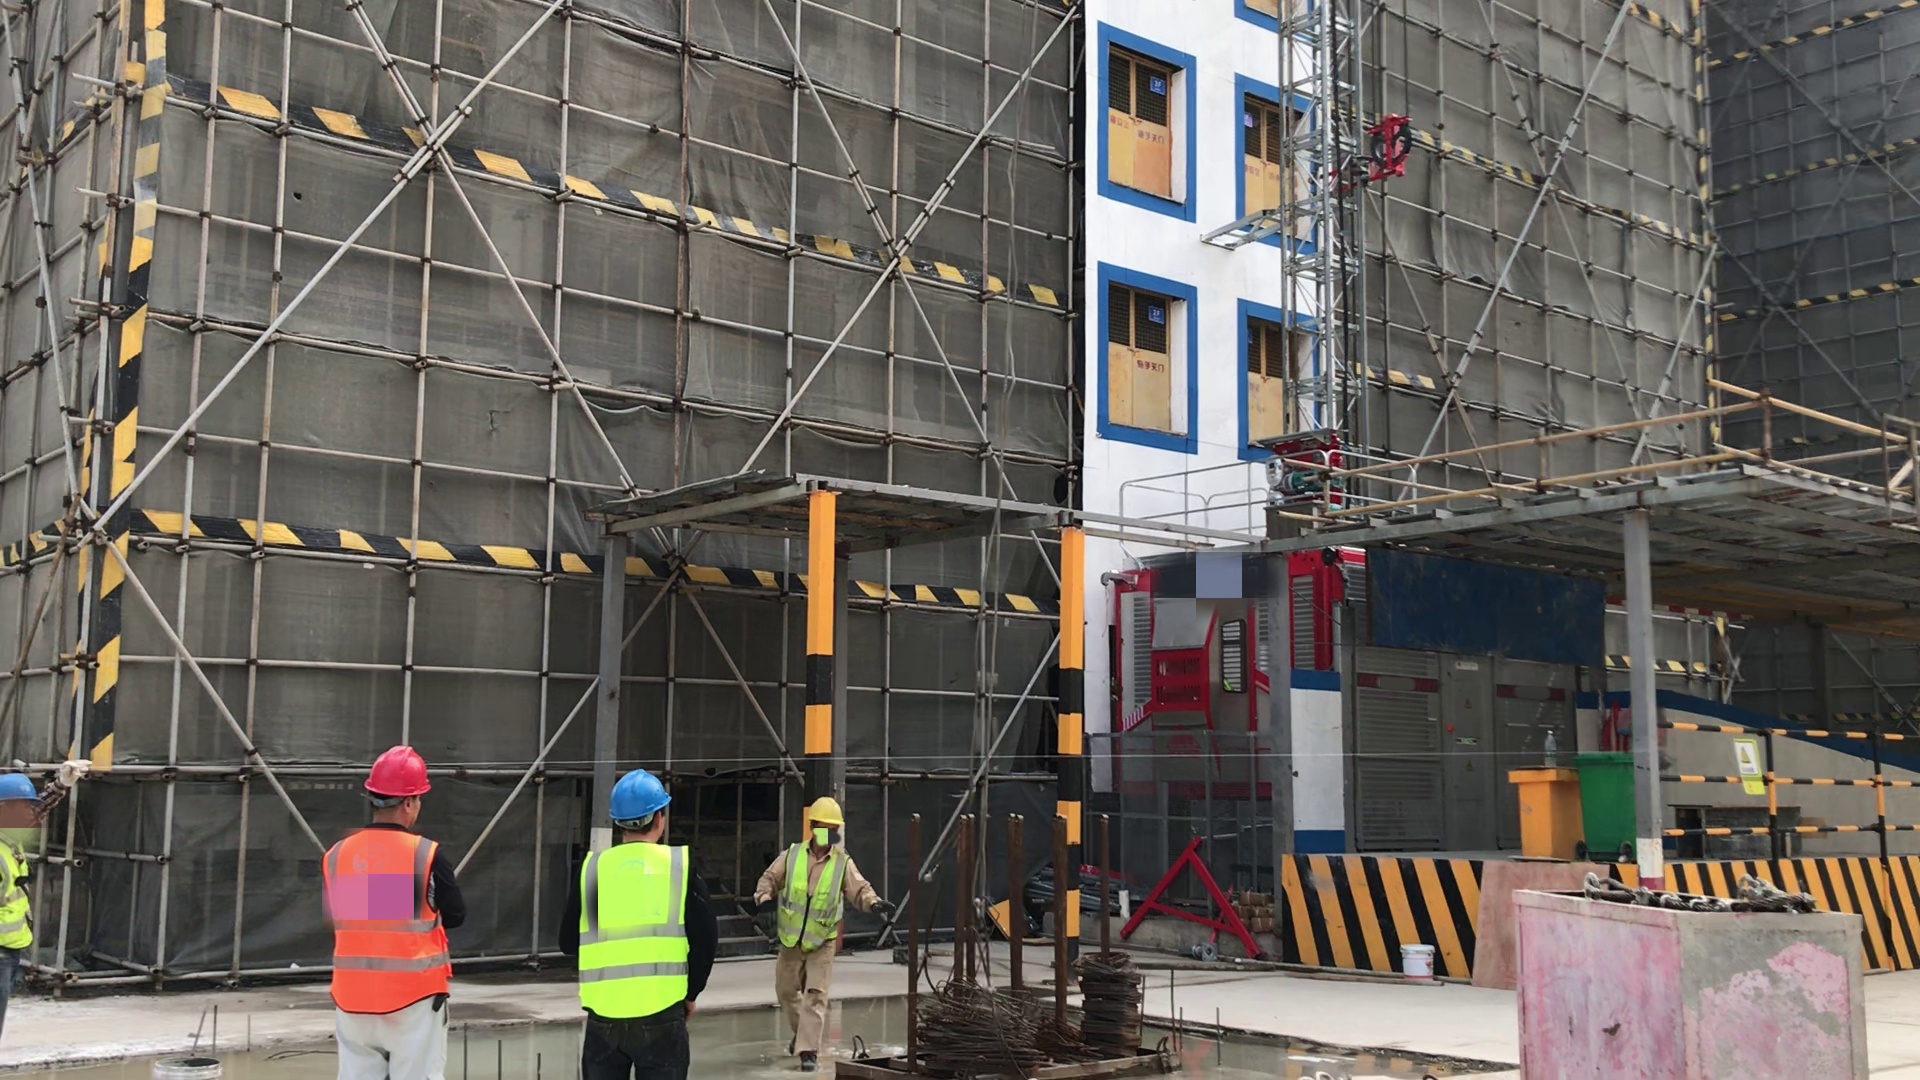helmet: (603, 761, 673, 825), (360, 743, 439, 799), (802, 792, 843, 834), (2, 769, 36, 808)
person: (320, 741, 469, 1080), (561, 766, 720, 1080), (751, 782, 894, 1070), (3, 765, 41, 1044)
vest: (314, 823, 456, 1020), (575, 837, 697, 1028), (774, 840, 841, 959)
